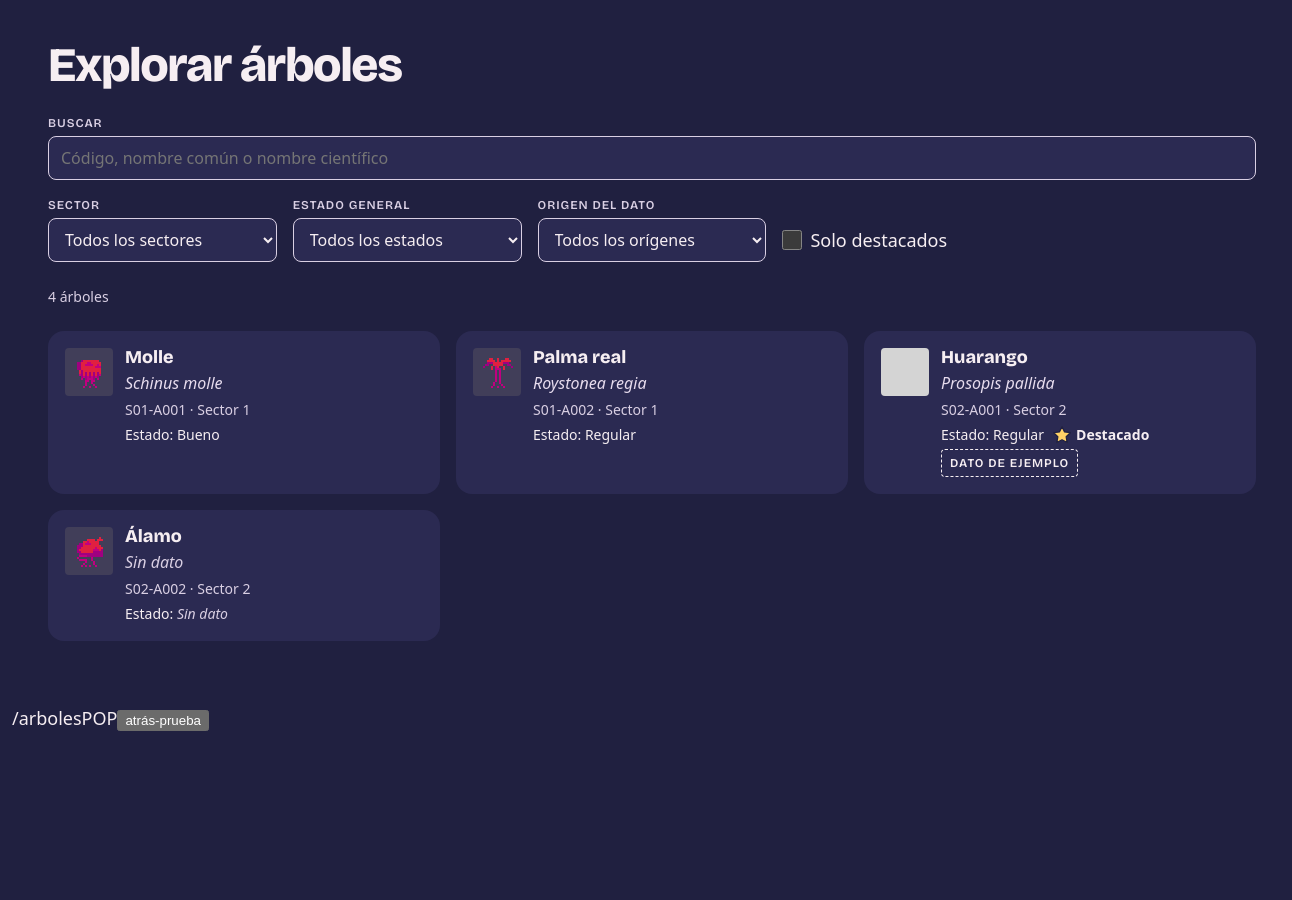
Test: VistaExplorar: buscador, filtros y URL › filtros › por sector
Expected: the list is shown, [48,331,1256,641]
Select "Sector 2" in the dropdown labelled "Sector" at (162,240), box [48,218,277,262]
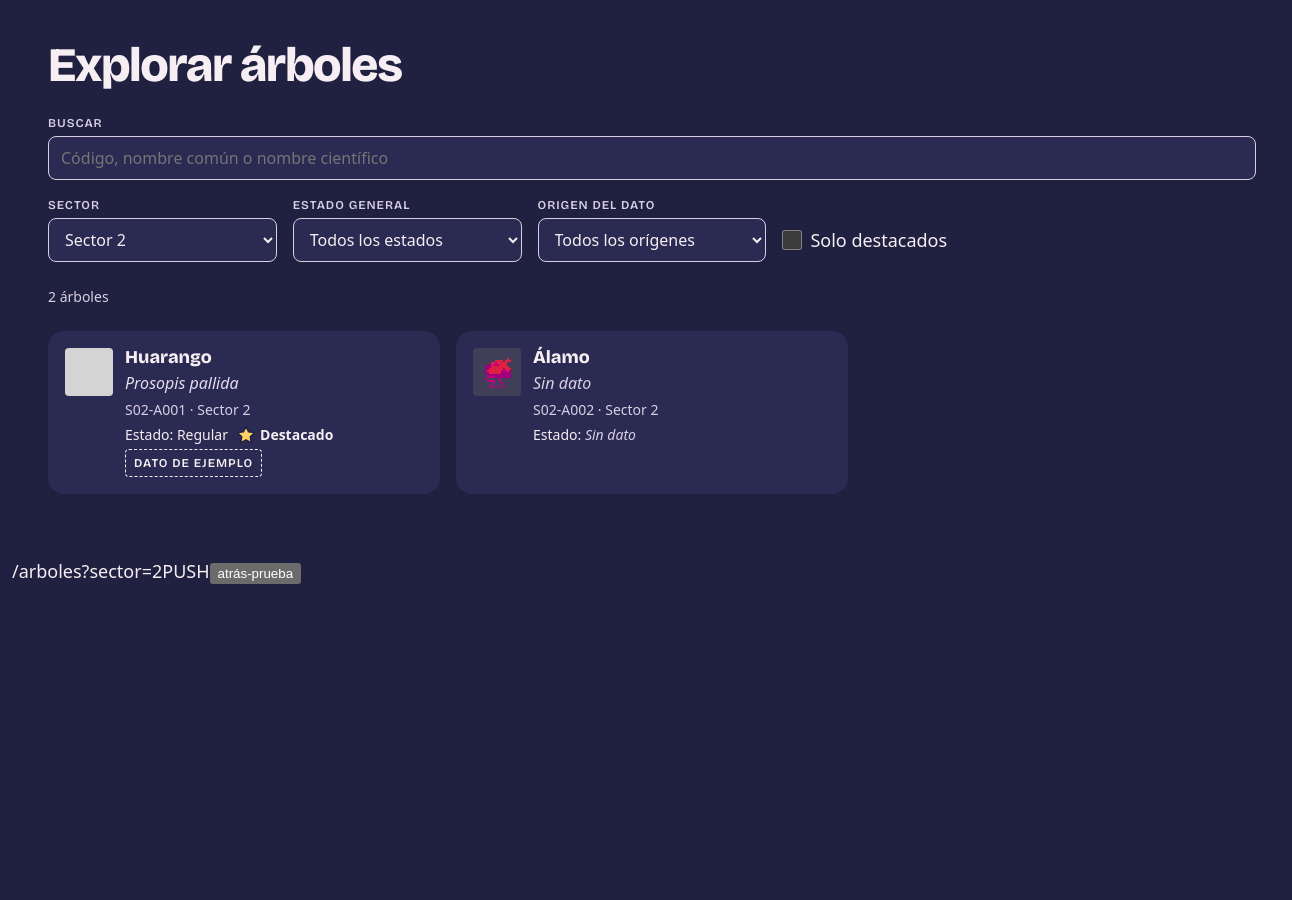
Expected: the number of list items is 2, [48,331,440,494]; [456,331,848,494]
